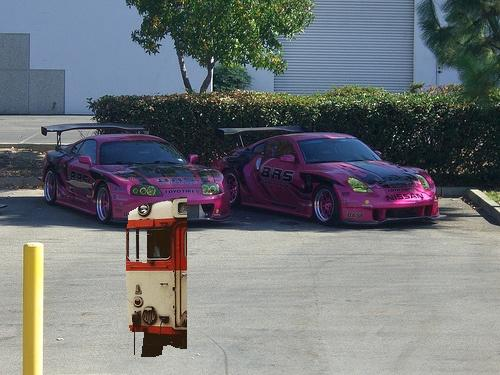tampered: (127, 198, 187, 357)
